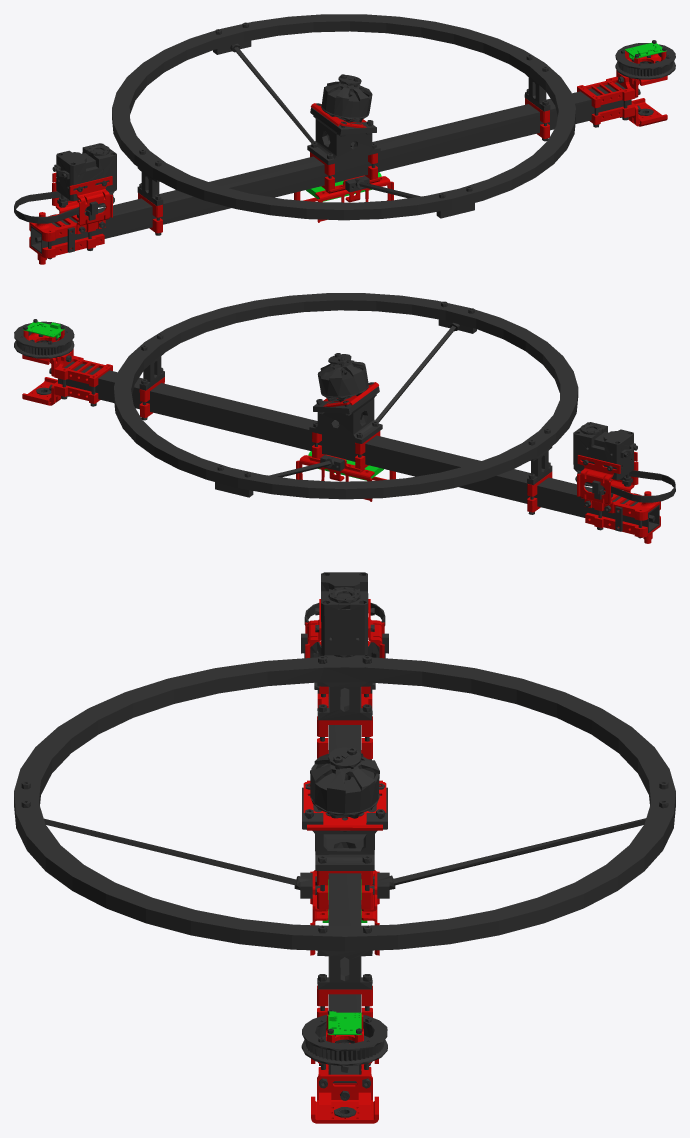
File: tilt_10deg_link3.dae
3 renders of one model, top to bottom at view 1: azimuth 30°, elevation 25°; view 2: azimuth 150°, elevation 25°; view 3: azimuth 270°, elevation 25°, orthographic. The views are drawn at different scales.
Visible parts, largest first — view 1: tilt_10deg_link3_black_part, tilt_link3_red_part, link3_green_part; view 2: tilt_10deg_link3_black_part, tilt_link3_red_part, link3_green_part; view 3: tilt_10deg_link3_black_part, tilt_link3_red_part, link3_green_part.
Boxes of the visible parts, left/top/right/bottom form: tilt_10deg_link3_black_part: left=14, top=14, right=675, bottom=259; tilt_link3_red_part: left=29, top=50, right=667, bottom=264; link3_green_part: left=306, top=42, right=666, bottom=201; tilt_10deg_link3_black_part: left=14, top=293, right=675, bottom=538; tilt_link3_red_part: left=22, top=330, right=660, bottom=543; link3_green_part: left=23, top=321, right=383, bottom=480; tilt_10deg_link3_black_part: left=14, top=572, right=675, bottom=1117; tilt_link3_red_part: left=303, top=599, right=386, bottom=1123; link3_green_part: left=322, top=879, right=367, bottom=1034.
Bounding box in the file's own units: 0.6504 × 0.3997 × 0.1211.
